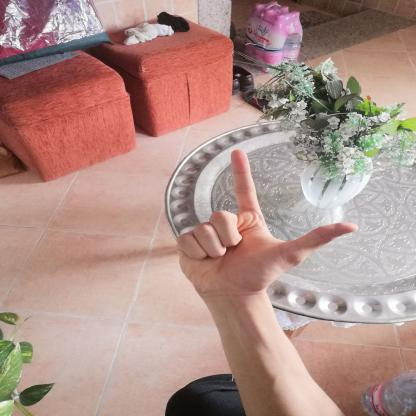LAAM: (168, 141, 368, 305)
